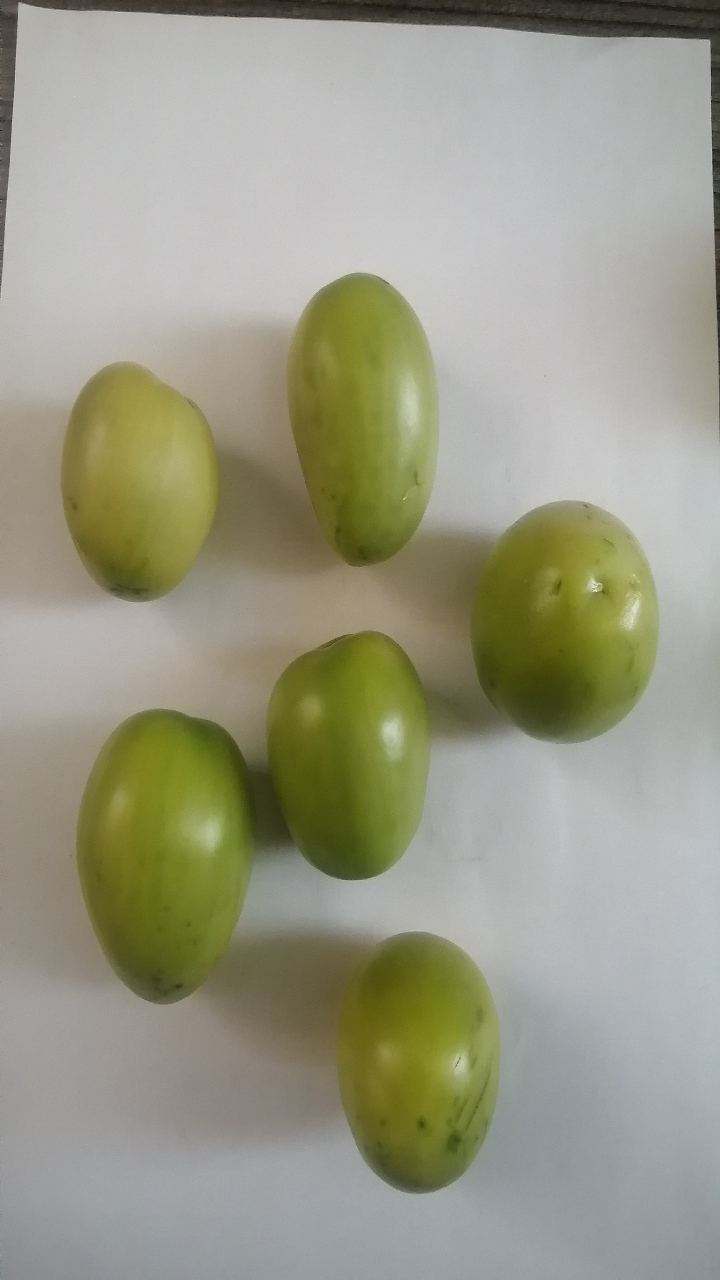tomateVerde: (66, 695, 281, 1031), (298, 911, 523, 1203), (458, 482, 668, 749), (249, 615, 449, 892), (34, 337, 229, 615), (280, 252, 444, 577)
